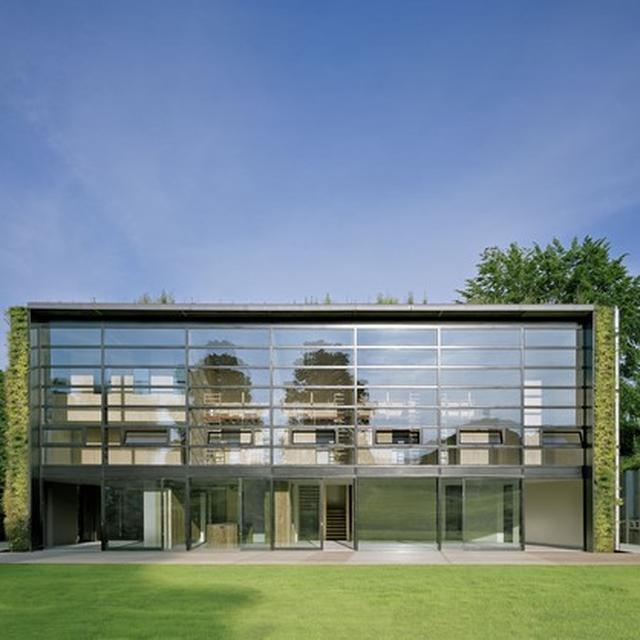building: (9, 297, 621, 555)
